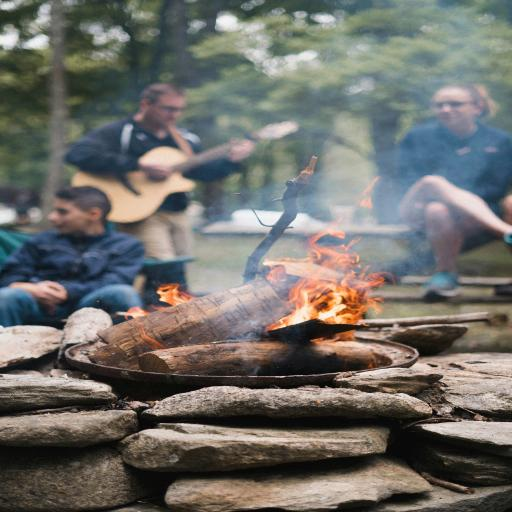campfire: (175, 160, 467, 383)
